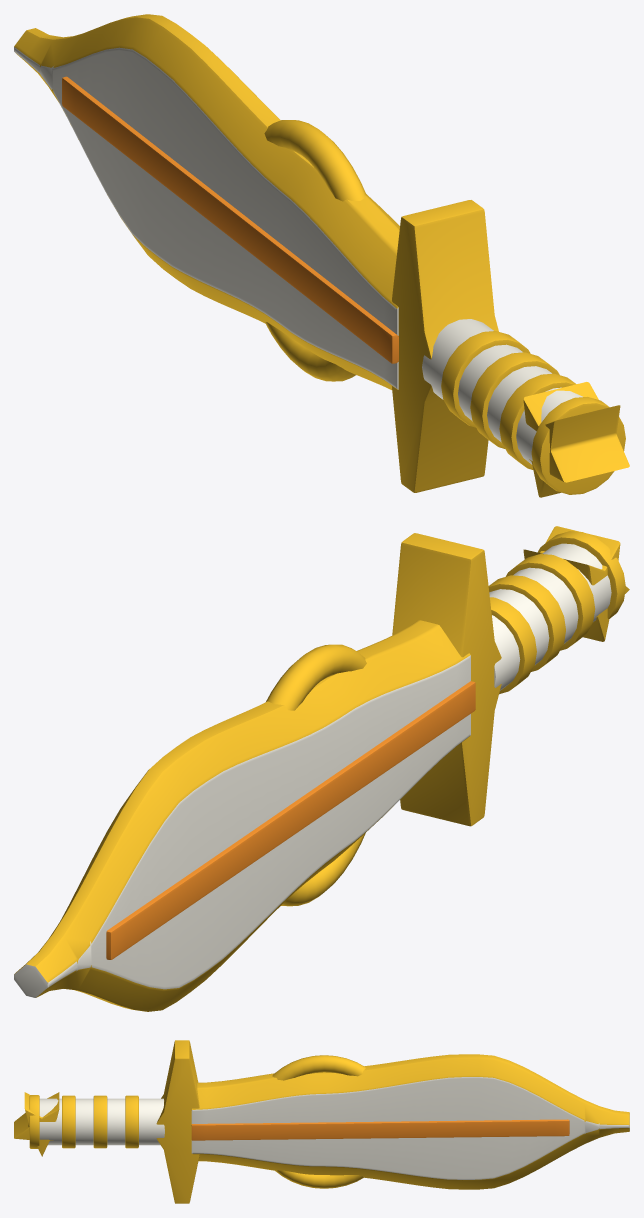
Rendered from Boss_CelestialTitan.glb.
The picture shows the model from 3 angles, top to bottom: view 1: azimuth 30°, elevation 25°; view 2: azimuth 150°, elevation 25°; view 3: azimuth 270°, elevation 25°; orthographic projection. The views are drawn at different scales.
Parts seen in each view (by area): view 1: Boss_CelestialTitan; view 2: Boss_CelestialTitan; view 3: Boss_CelestialTitan.
Boxes of the visible parts, x1,y1,x2,y2 form: Boss_CelestialTitan: (14,14,629,497); Boss_CelestialTitan: (14,526,629,1011); Boss_CelestialTitan: (14,1040,629,1203).
Size of the model in its own units: 0.0882 by 0.2607 by 1.
1 material, 1 textured.
